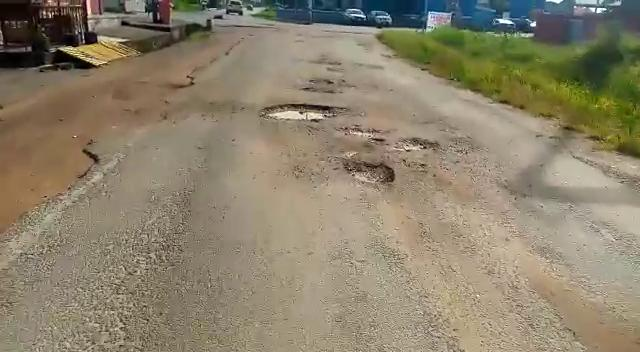pothole: (258, 102, 352, 128), (341, 157, 397, 184), (393, 136, 441, 152), (343, 128, 382, 141)
